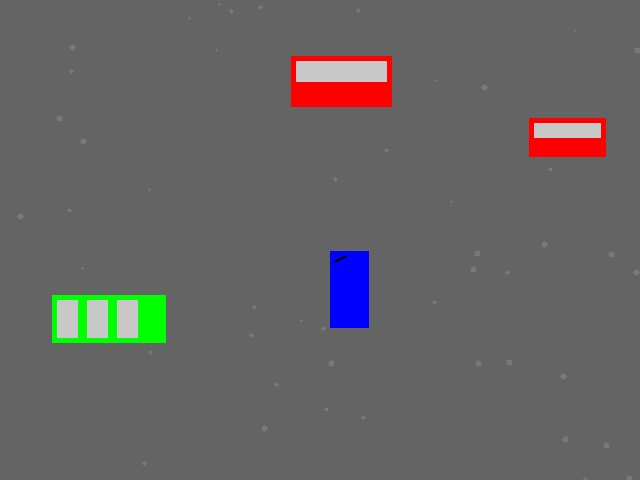bus: (52, 295, 165, 342)
car: (291, 56, 391, 106), (529, 118, 605, 156)
motorcycle: (330, 251, 368, 327)
